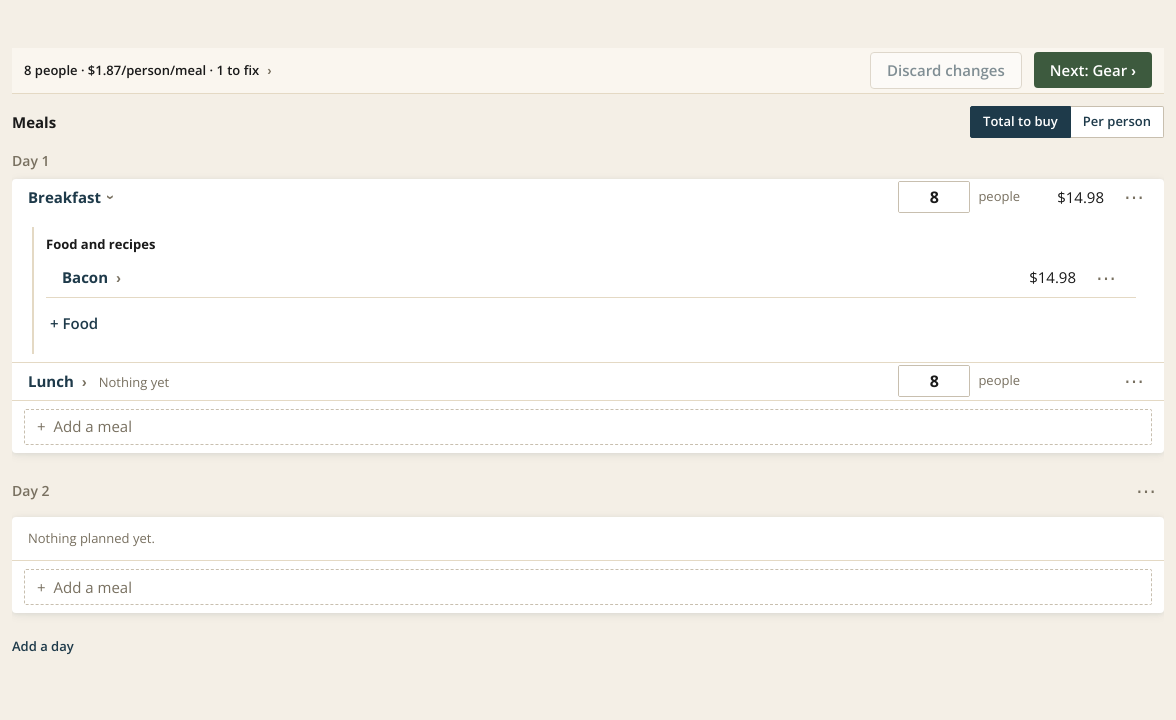
Test: MealEditor › recipe rows › PerPerson_ShowsEachRecipesCostForOnePerson
Click the button "Per person". click: (1117, 122)
box: [1071,106,1164,138]
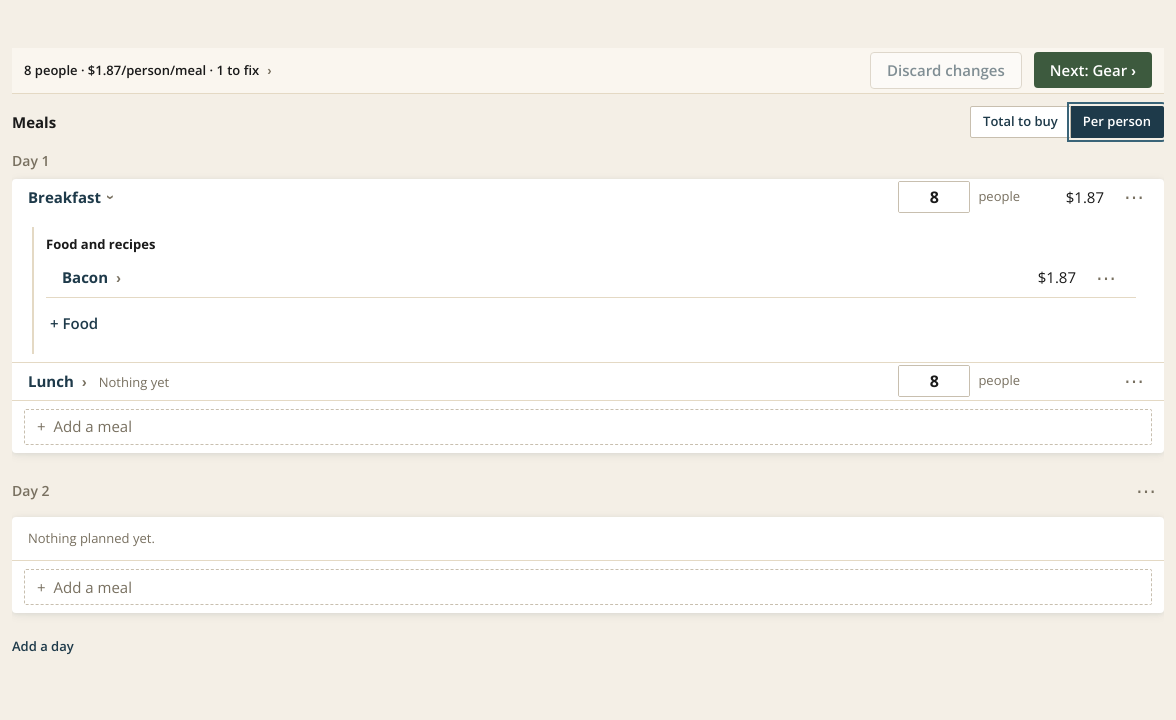
Now the 2nd text "$1.87" is shown, box [1038,267,1076,287]
